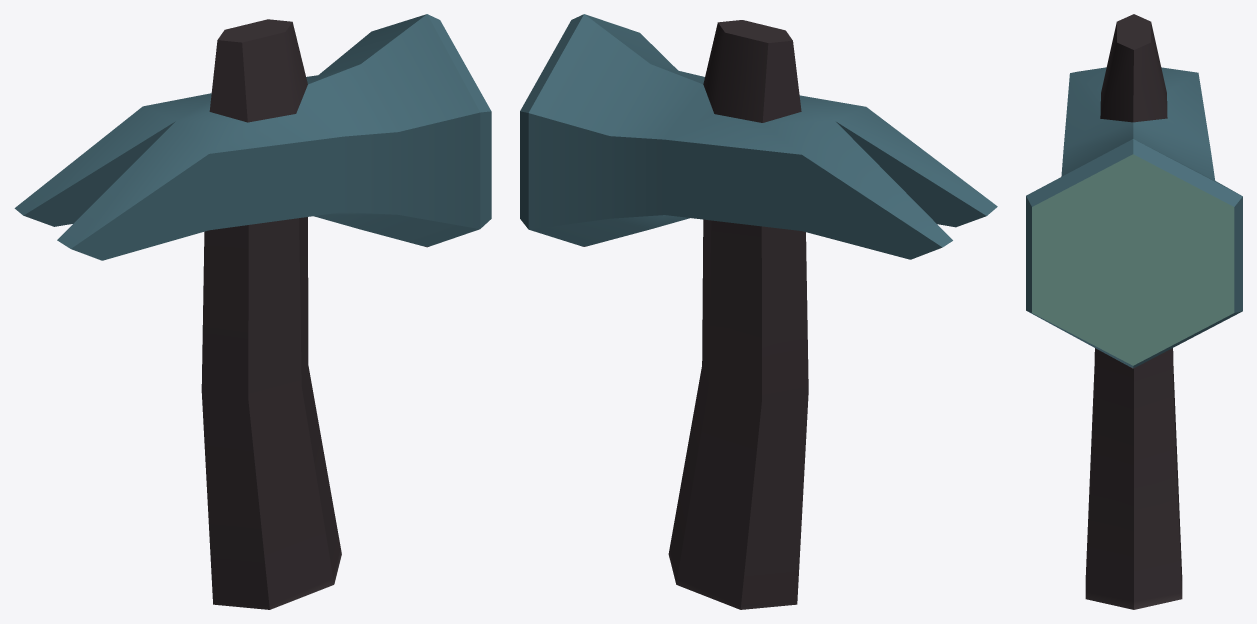
File: hammer.fbx
3 views of the same model, side by side, from view 1: azimuth 30°, elevation 25°; view 2: azimuth 150°, elevation 25°; view 3: azimuth 270°, elevation 25° (orthographic).
Visible parts, largest first — view 1: hammer; view 2: hammer; view 3: hammer.
Boxes of the visible parts, x1,y1,x2,y2 form: hammer: [14, 14, 491, 609]; hammer: [520, 14, 997, 609]; hammer: [1026, 14, 1242, 609].
Bounding box in the file's own units: 75.6 × 102 × 36.1.
Materials: 1 (1 with a texture image).
